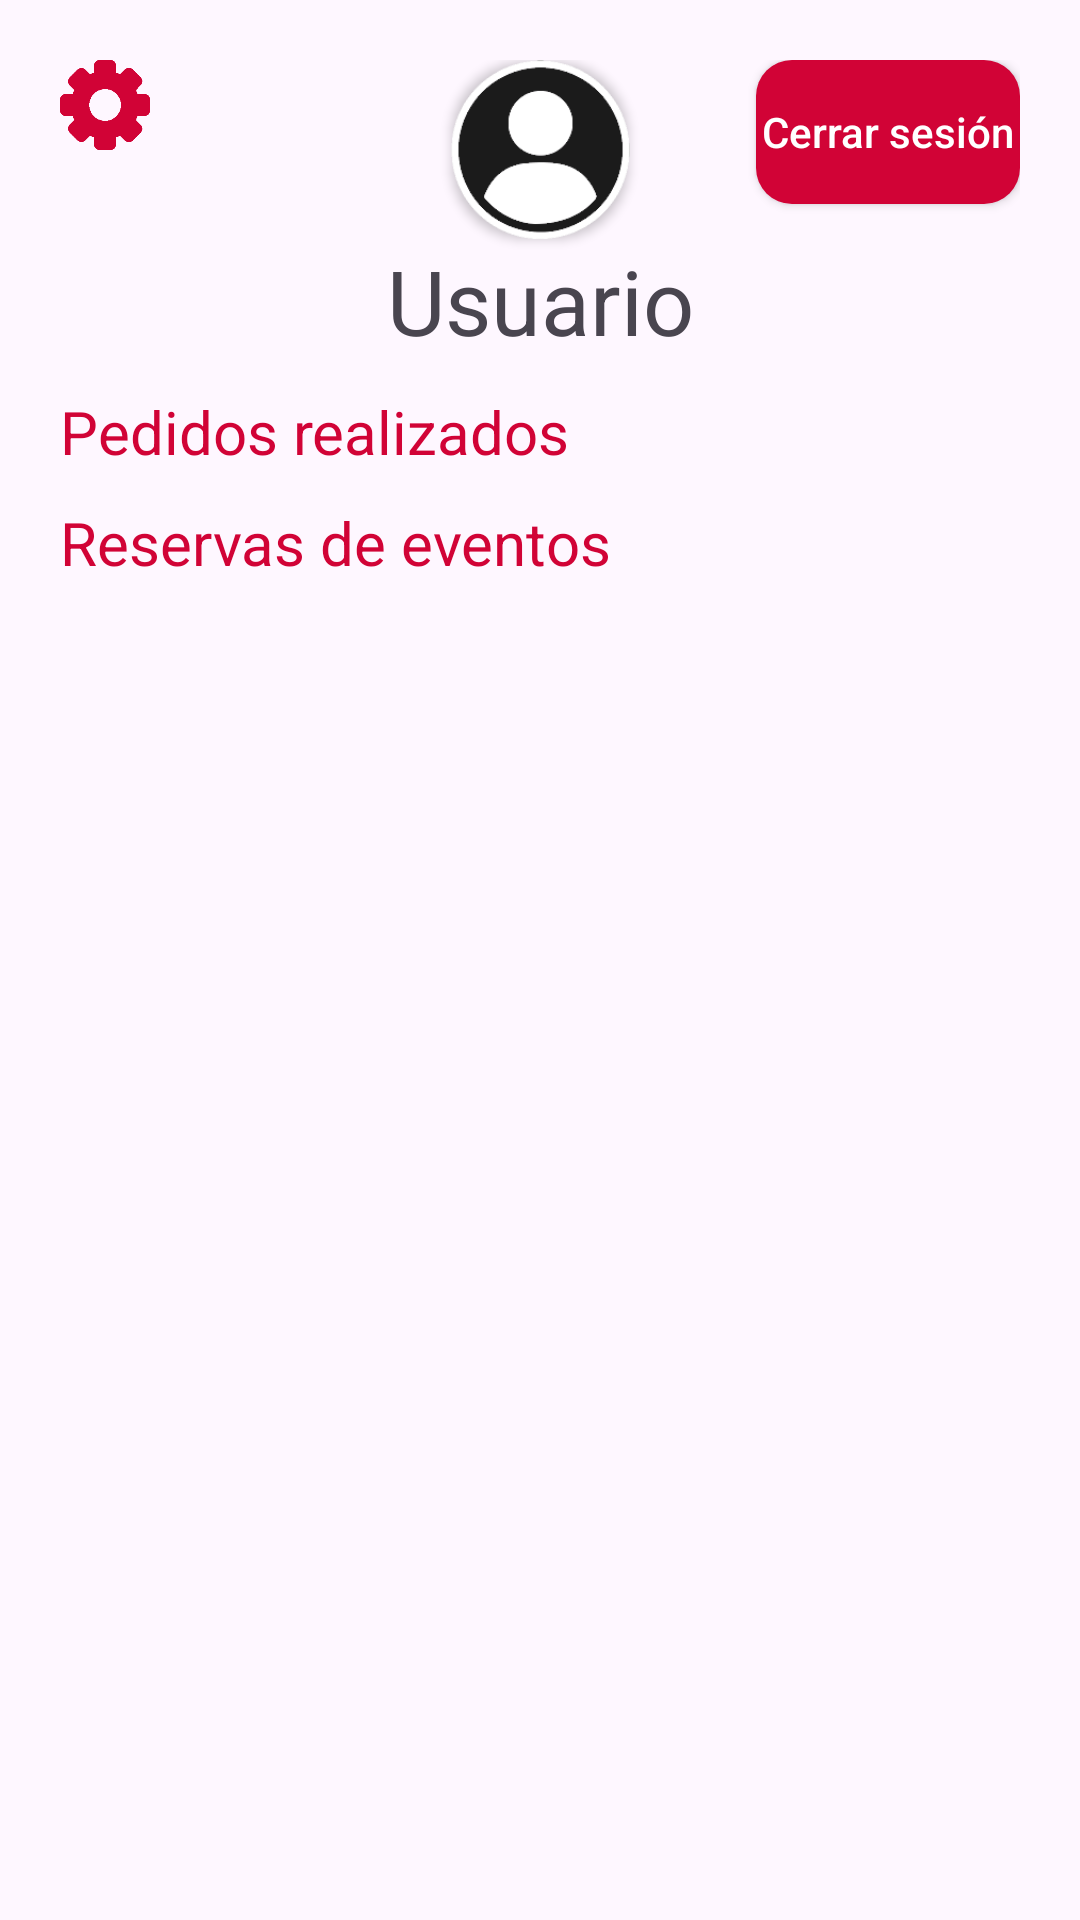

Where to tap for icons on this 1080px x 1920px app screen, as [x,y]:
configuration: [105,105]
